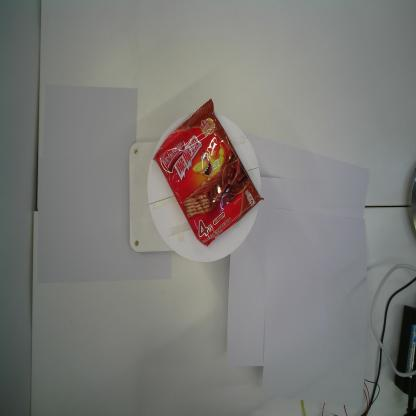Dessert: (153, 96, 264, 247)
